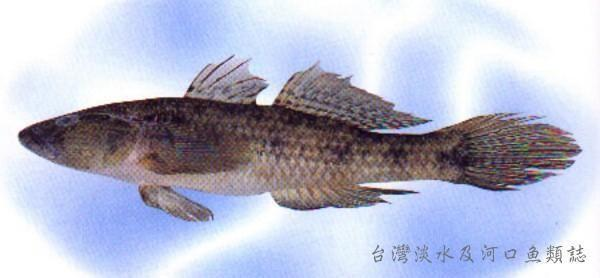Goby: (20, 41, 585, 222)
